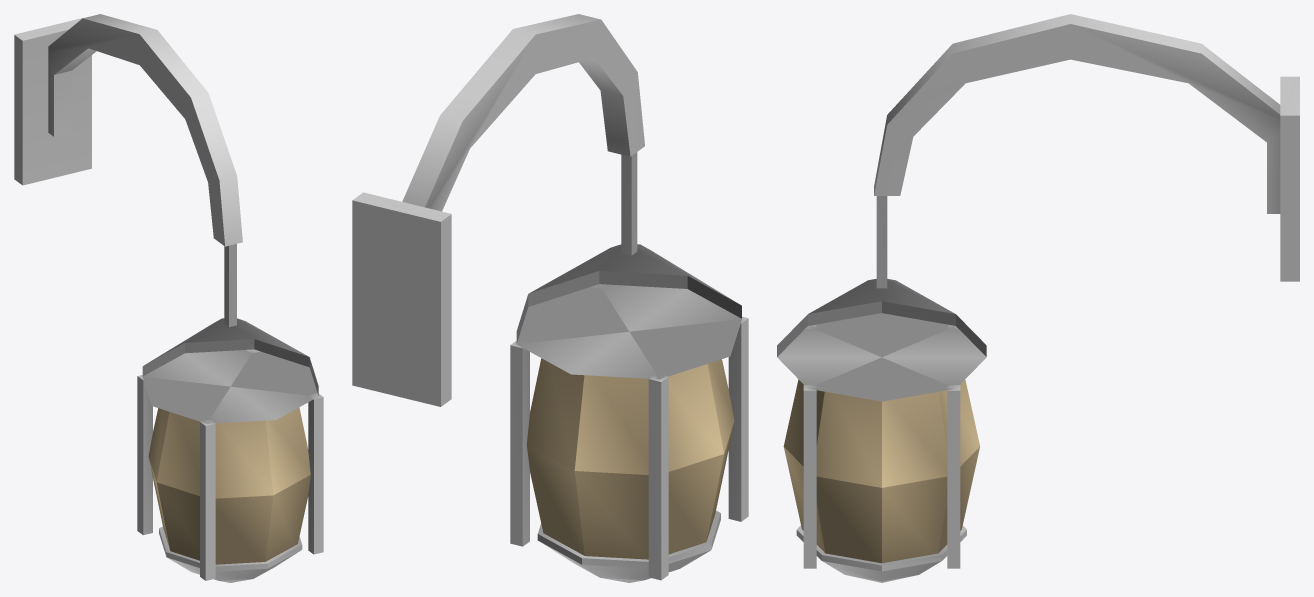
Rendered from lamp_lantern.glb.
The picture shows the model from 3 angles, left to right: view 1: azimuth 30°, elevation 25°; view 2: azimuth 150°, elevation 25°; view 3: azimuth 270°, elevation 25°; orthographic projection. The views are drawn at different scales.
Visible parts, largest first — view 1: lamp_lantern_MC_Roof, lamp_lantern_MC_Glow; view 2: lamp_lantern_MC_Roof, lamp_lantern_MC_Glow; view 3: lamp_lantern_MC_Roof, lamp_lantern_MC_Glow.
Boxes of the visible parts, x1,y1,x2,y2 form: lamp_lantern_MC_Roof: [14, 14, 323, 582]; lamp_lantern_MC_Glow: [148, 407, 310, 564]; lamp_lantern_MC_Roof: [352, 14, 748, 582]; lamp_lantern_MC_Glow: [526, 358, 734, 559]; lamp_lantern_MC_Roof: [777, 14, 1299, 582]; lamp_lantern_MC_Glow: [783, 379, 979, 563].
Bounding box in the file's own units: 0.32 × 0.95 × 0.798.
